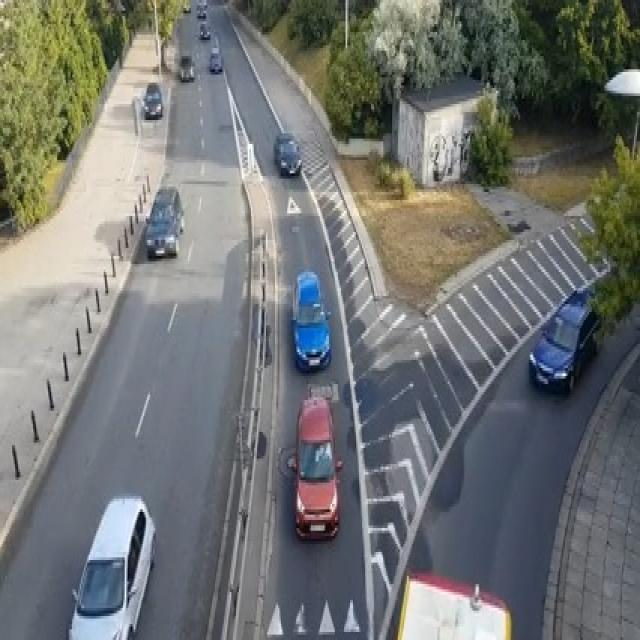car: (66, 493, 156, 638), (527, 285, 601, 395), (287, 392, 342, 539), (290, 269, 330, 371), (144, 184, 183, 259), (273, 131, 302, 176), (141, 80, 162, 117), (179, 53, 194, 80), (209, 45, 222, 72), (195, 0, 206, 19), (198, 22, 210, 38), (183, 0, 190, 13)
